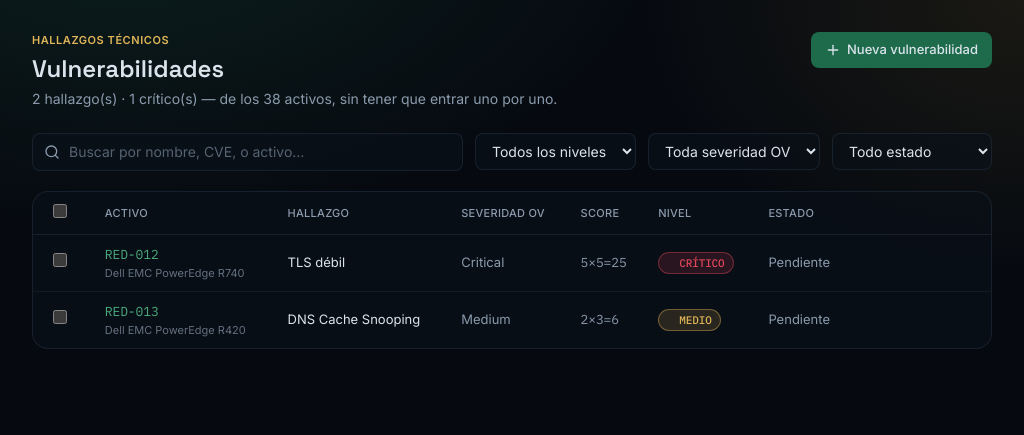
Scenario: Vulnerabilidades — operaciones en lote › tras aplicar en lote, la selección se limpia y se vuelve a pedir la lista
Expected: the text "TLS débil" is shown, 276,234 -> 449,292
Click the checkbox next to "RED-012" at coordinates (60, 260), box 53,253 -> 67,267
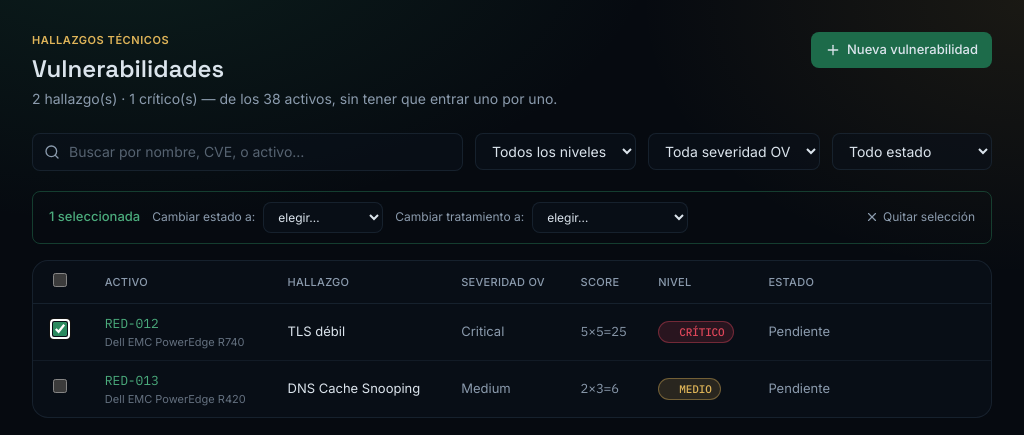
Select "Aceptado" in the dropdown next to "Cambiar estado a:" at coordinates (323, 217), box 263,202 -> 383,232
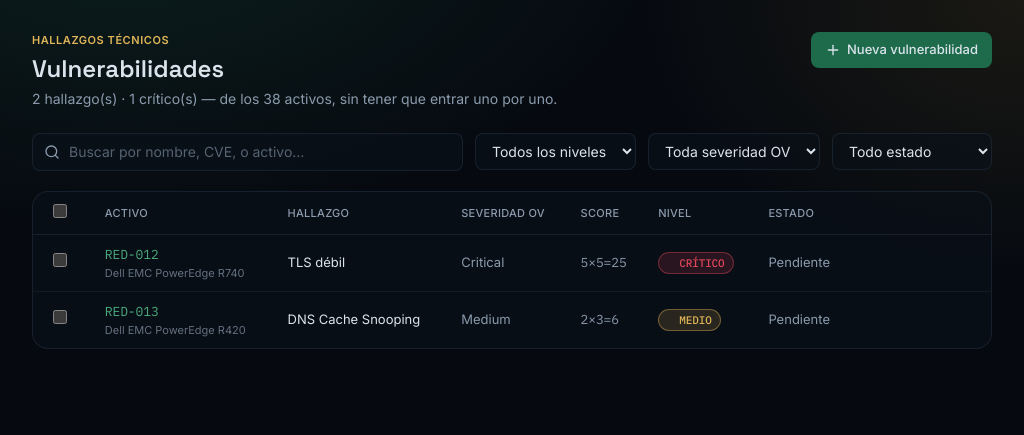
Expected: the text "seleccionada" is gone
